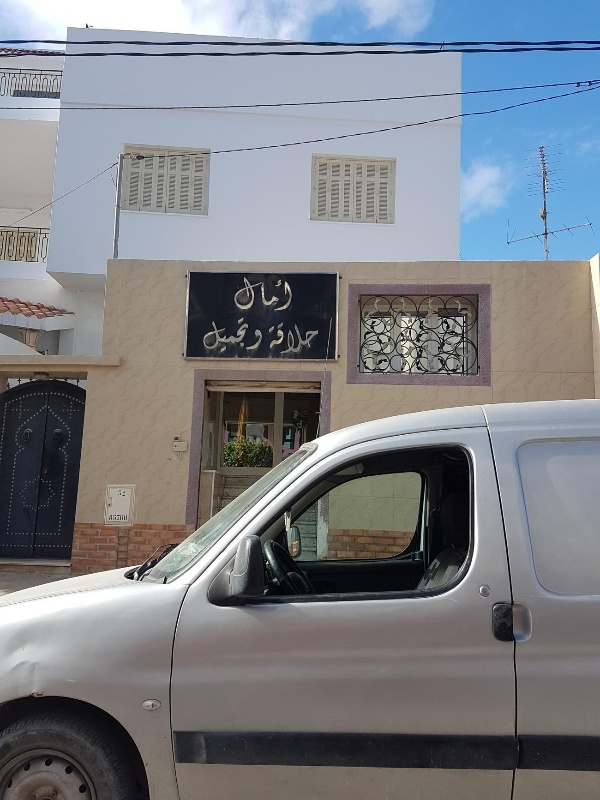text: (241, 276, 256, 313), (257, 276, 272, 313), (273, 276, 288, 313), (209, 316, 224, 353), (225, 316, 240, 353), (273, 322, 288, 356), (289, 322, 304, 356), (305, 322, 320, 356), (241, 316, 251, 353), (202, 316, 208, 353), (235, 276, 240, 313), (257, 329, 264, 353), (289, 276, 293, 313), (270, 322, 272, 356)
